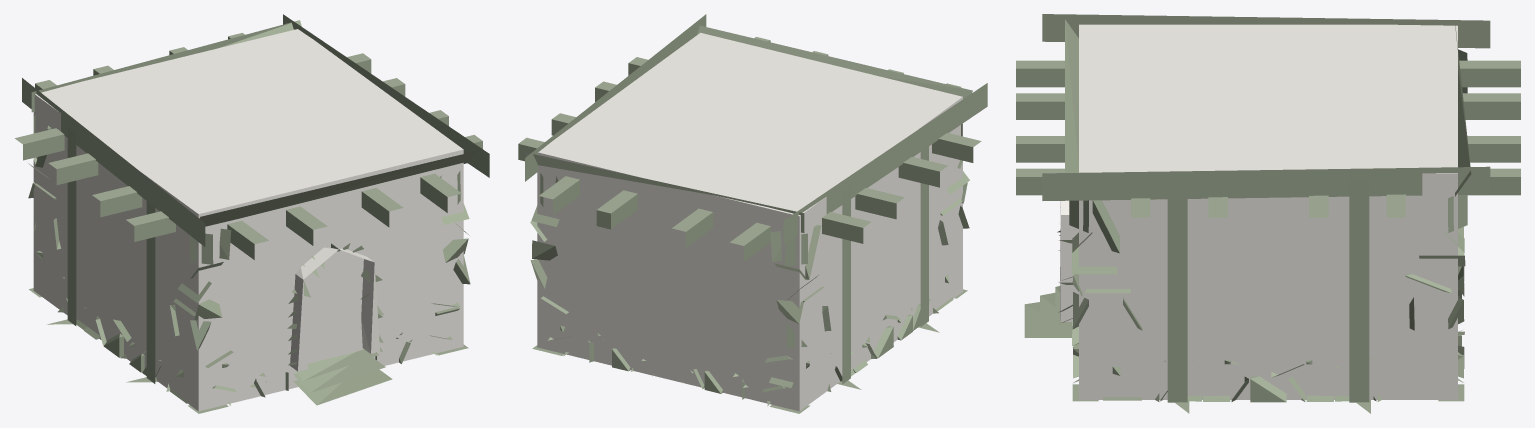
File: hut-c-B7OMDTUY.glb
3 renders of one model, left to right at view 1: azimuth 30°, elevation 25°; view 2: azimuth 150°, elevation 25°; view 3: azimuth 270°, elevation 25°, orthographic. The views are drawn at different scales.
Visible parts, largest first — view 1: House_4_Cube.037; view 2: House_4_Cube.037; view 3: House_4_Cube.037.
Part boxes in pixels (box(x1,y1,x2,y2)): House_4_Cube.037: box(15, 14, 489, 413); House_4_Cube.037: box(518, 14, 987, 413); House_4_Cube.037: box(1016, 14, 1520, 413).
Size of the model in its own units: 1.94 by 1.07 by 2.11.
